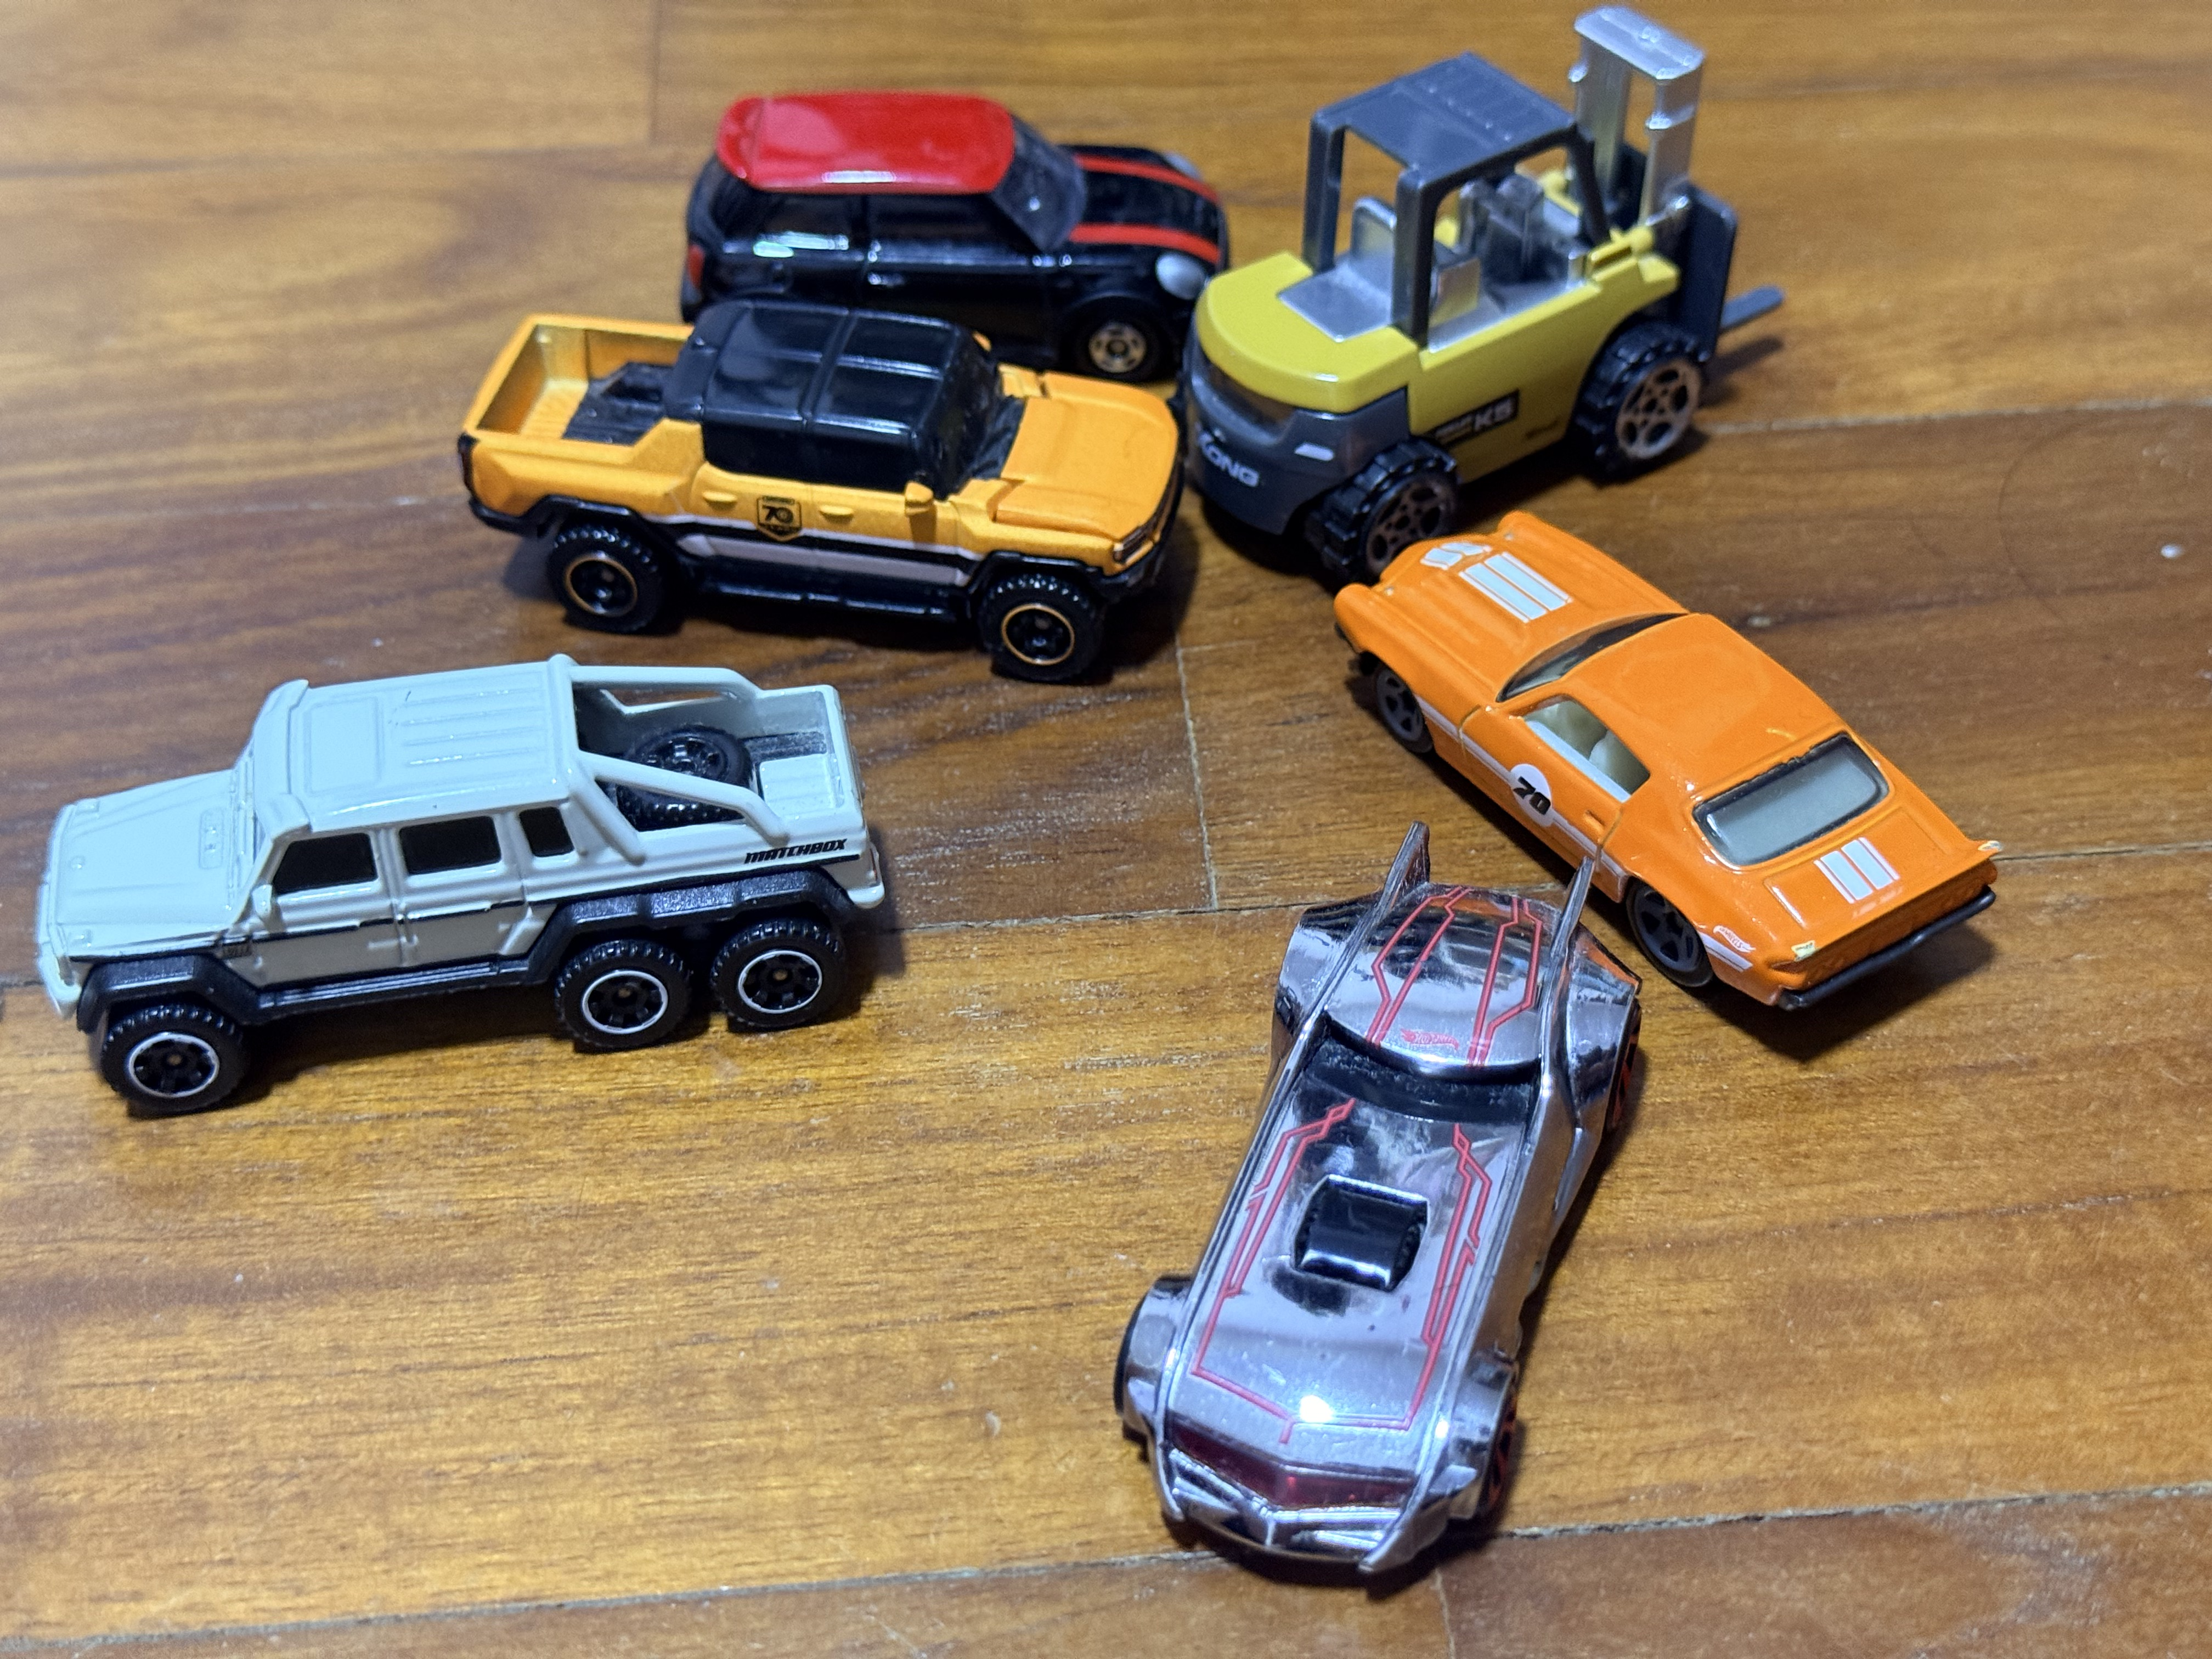camaro_rs: (1332, 507, 2006, 1018)
dc_comics: (1113, 812, 1644, 1586)
forklift: (1181, 0, 1787, 591)
gmc_hummer: (456, 295, 1186, 683)
mercedes_benz: (37, 650, 895, 1114)
mini_cooper: (678, 85, 1235, 378)
